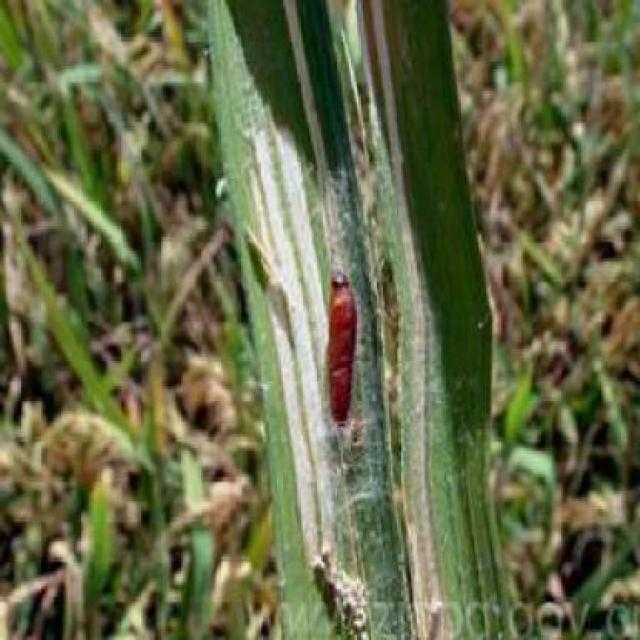leaf-folder: (300, 262, 372, 435)
